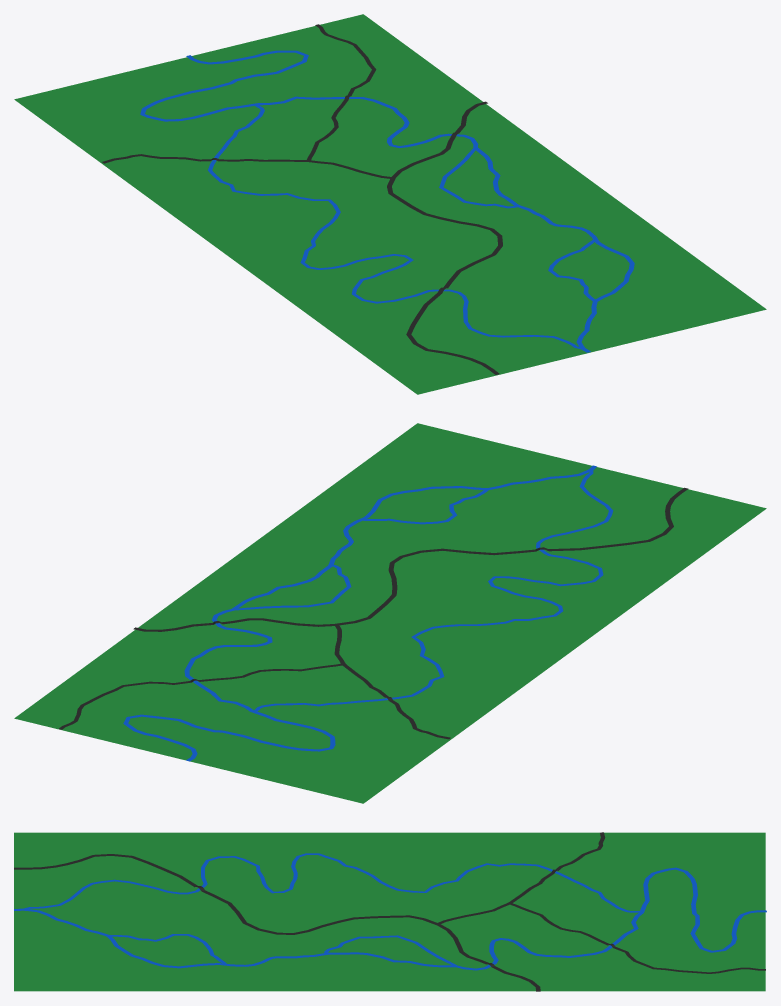
Rendered from 04_ete.glb.
3 renders of one model, top to bottom at view 1: azimuth 30°, elevation 25°; view 2: azimuth 150°, elevation 25°; view 3: azimuth 270°, elevation 25°, orthographic. The views are drawn at different scales.
Visible parts, largest first — view 1: 04_sol, 04_riviere, 04_route; view 2: 04_sol, 04_riviere, 04_route; view 3: 04_sol, 04_riviere, 04_route.
Part boxes in pixels (left/top/right/bottom): 04_sol: left=14, top=14, right=766, bottom=394; 04_riviere: left=140, top=50, right=634, bottom=352; 04_route: left=102, top=24, right=502, bottom=374; 04_sol: left=14, top=423, right=766, bottom=803; 04_riviere: left=123, top=465, right=613, bottom=761; 04_route: left=59, top=487, right=688, bottom=739; 04_sol: left=14, top=832, right=765, bottom=991; 04_riviere: left=14, top=853, right=766, bottom=970; 04_route: left=14, top=832, right=765, bottom=991.
Bounding box in the file's own units: 60.3 × 0.4007 × 120.
Materials: 1 (1 with a texture image).
